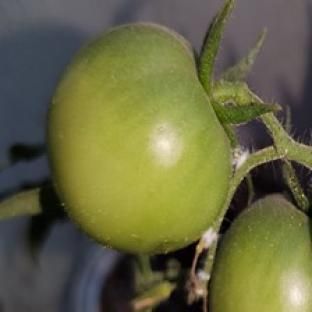Tomato: (48, 24, 231, 253), (209, 195, 311, 311)
